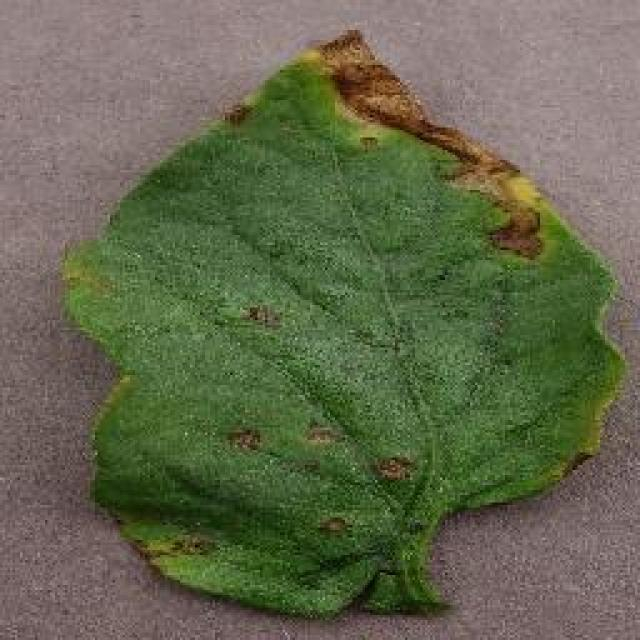Tomato bacterial spot leaf: (66, 22, 626, 620)
